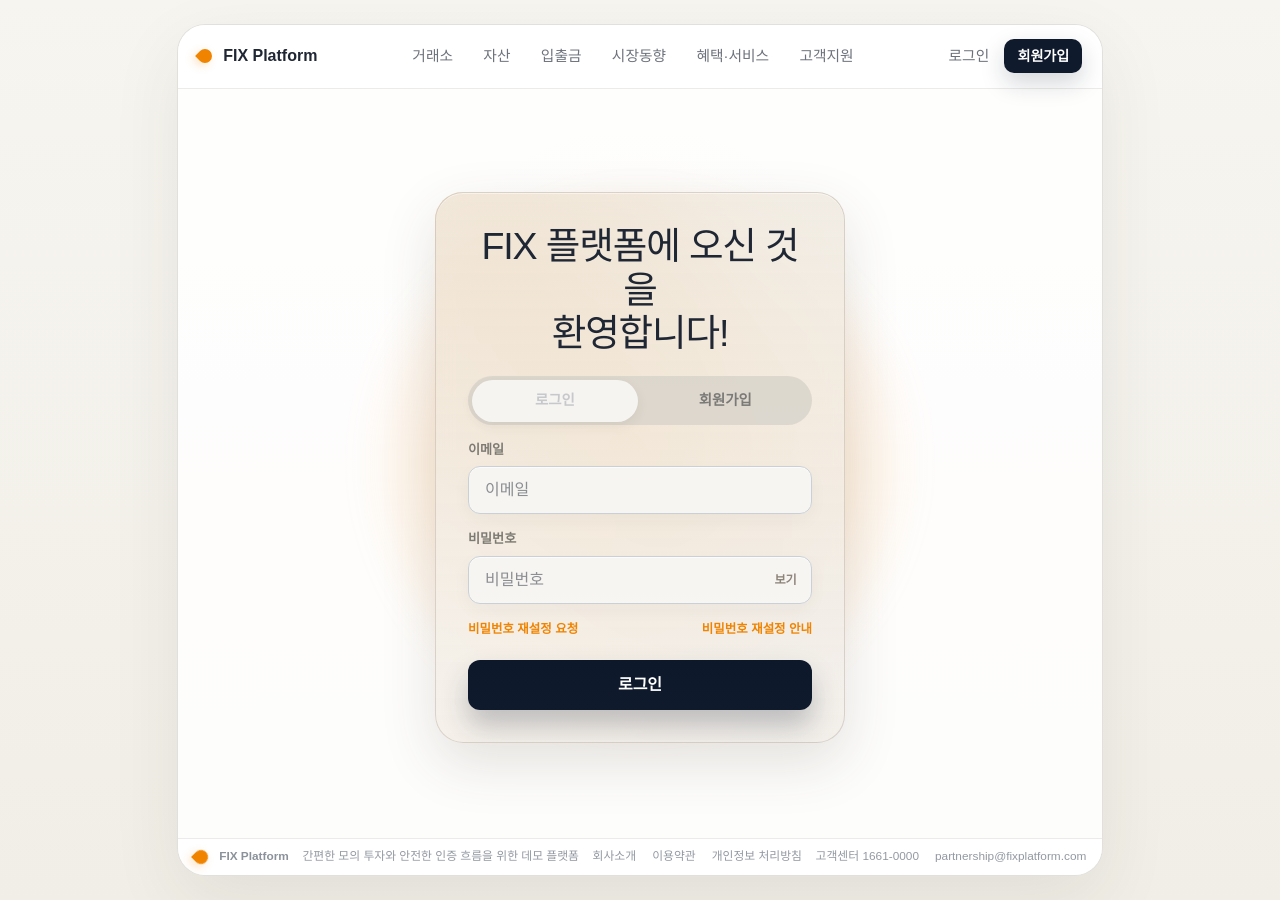
Test: password recovery routes › opens the dedicated forgot-password route from login and preserves the typed email
The width and height of the screenshot is (1280, 900).
Step 1. Type "demo@fix.com" into the field with test id "login-email" → point(640, 490), box [468,466,812,514]
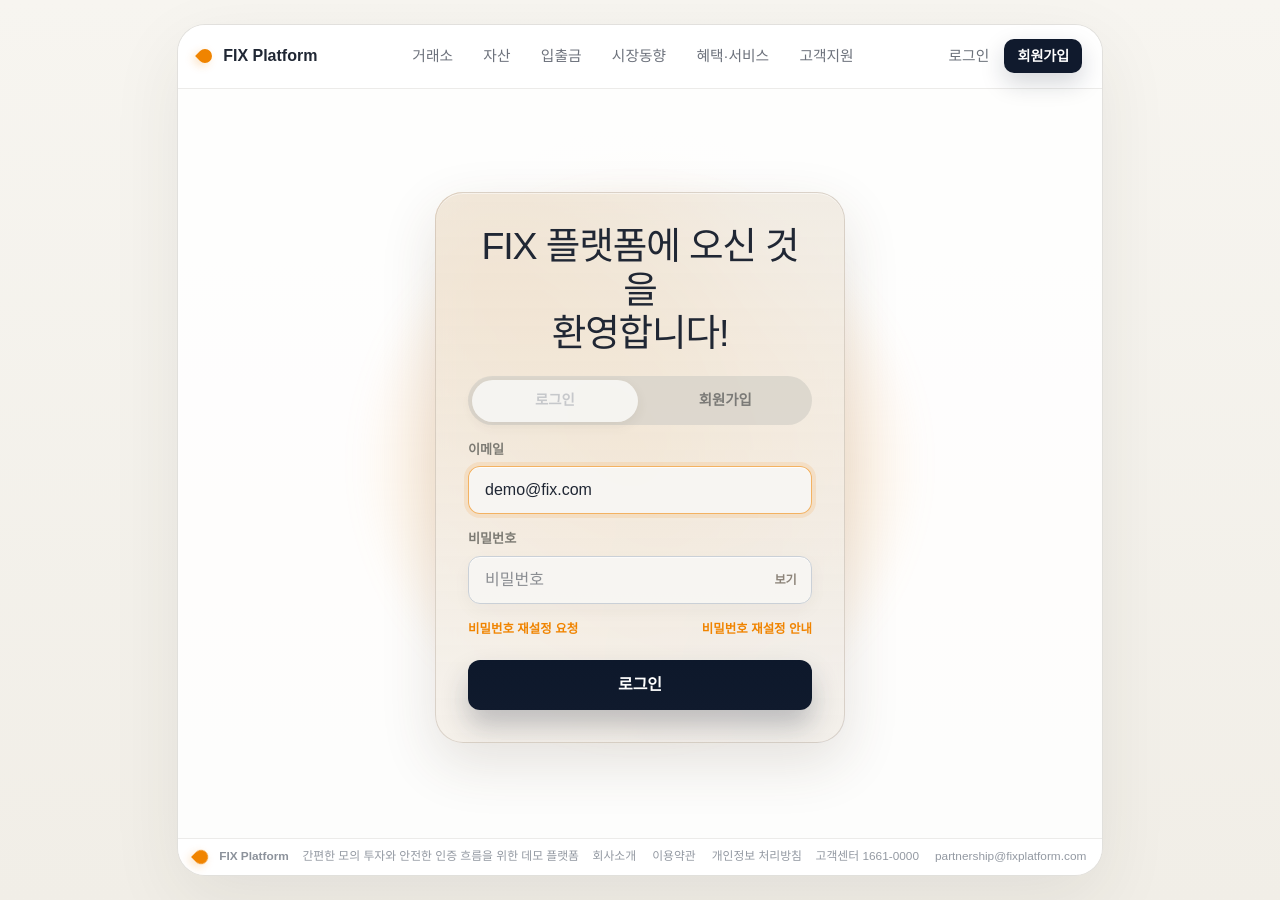
Step 2. Click the link with test id "login-open-password-recovery" → point(523, 629), box [468,620,578,639]
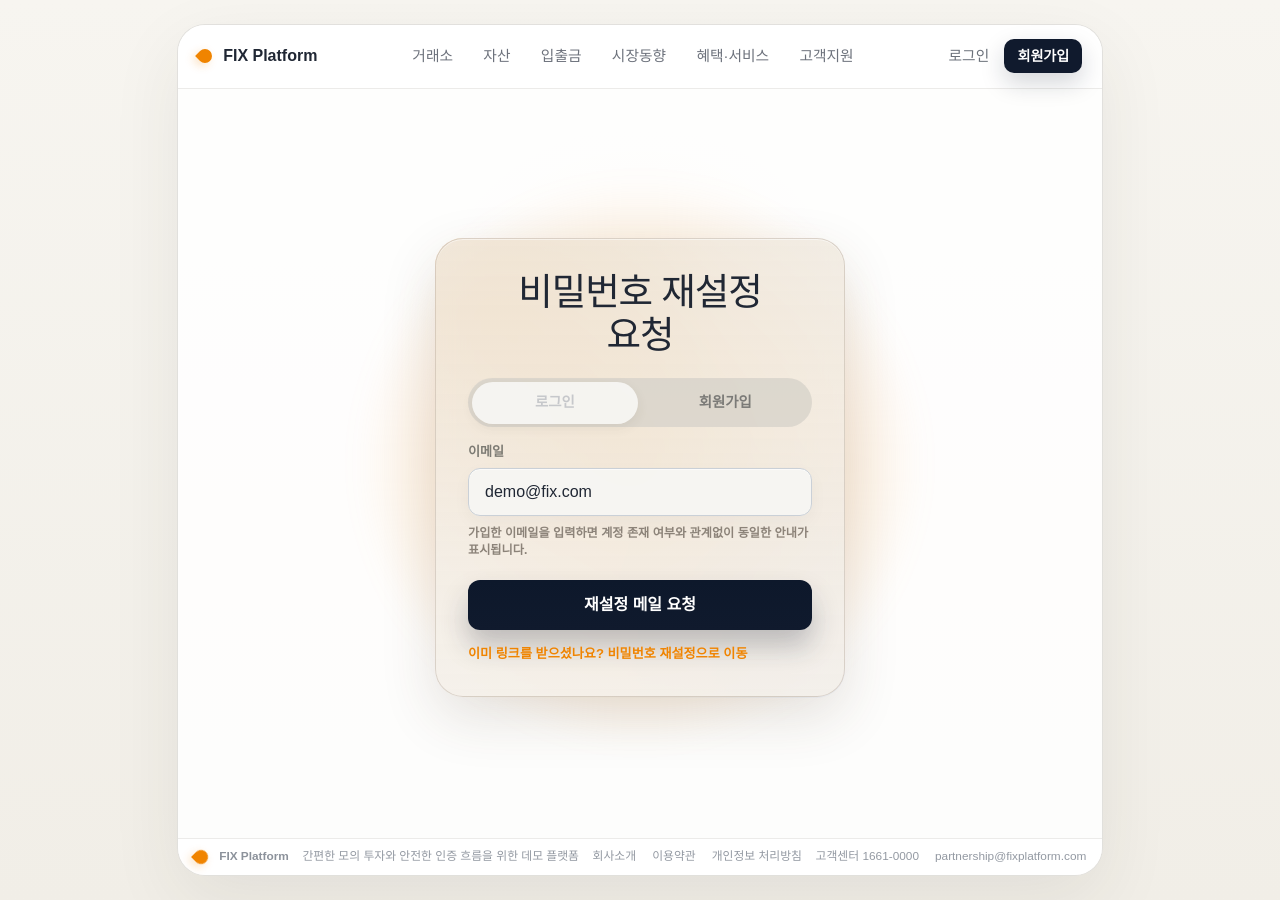
Expected: the field with test id "forgot-password-email" holds "demo@fix.com", [468,468,812,516]
